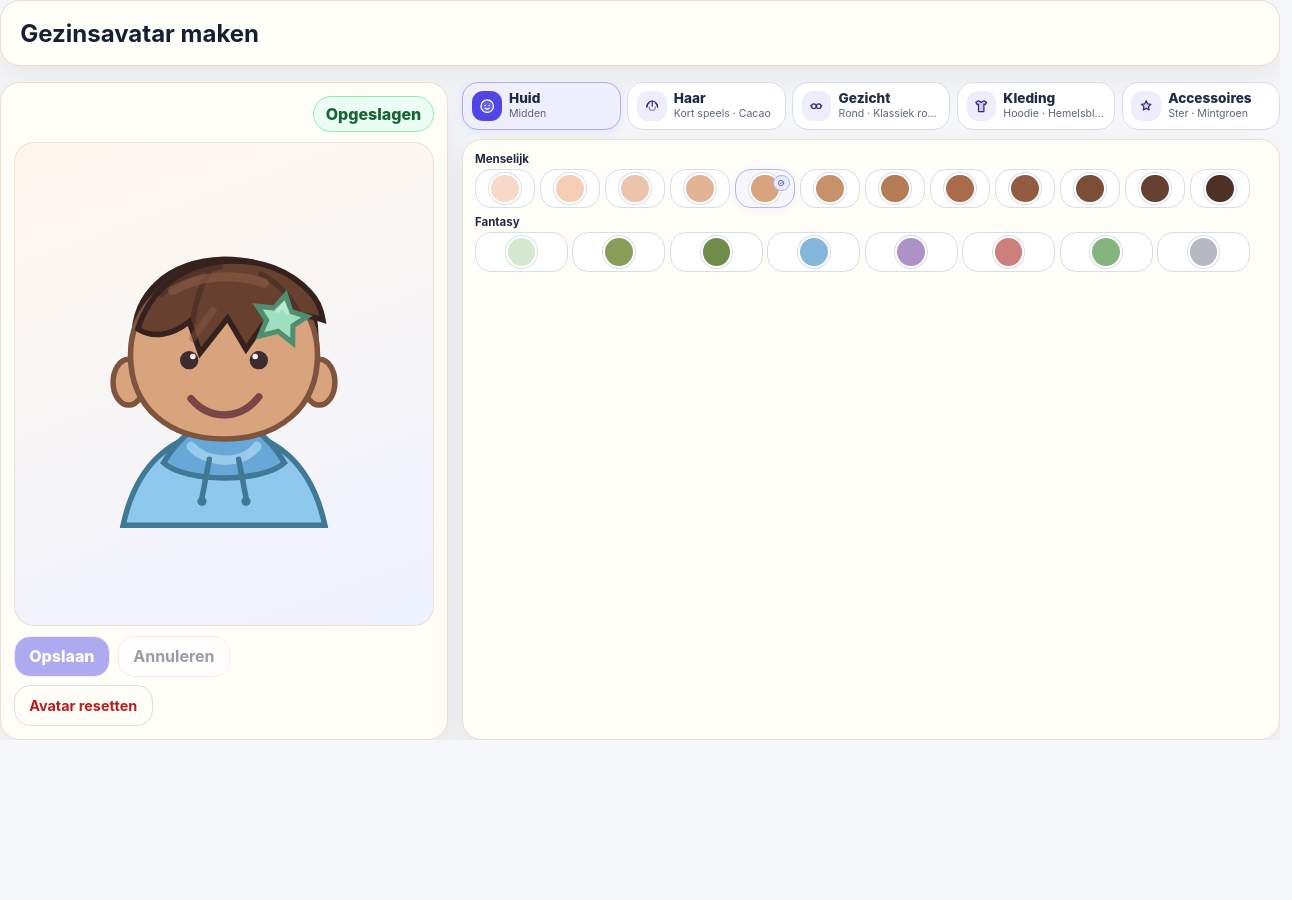
AvatarEditorPage › updates the live preview immediately when choices change
What coordinates should you click on to do the following:
click the button "Haar Kort speels · Cacao"
I would click on:
 (706, 106)
Its box is [627,82,786,130].
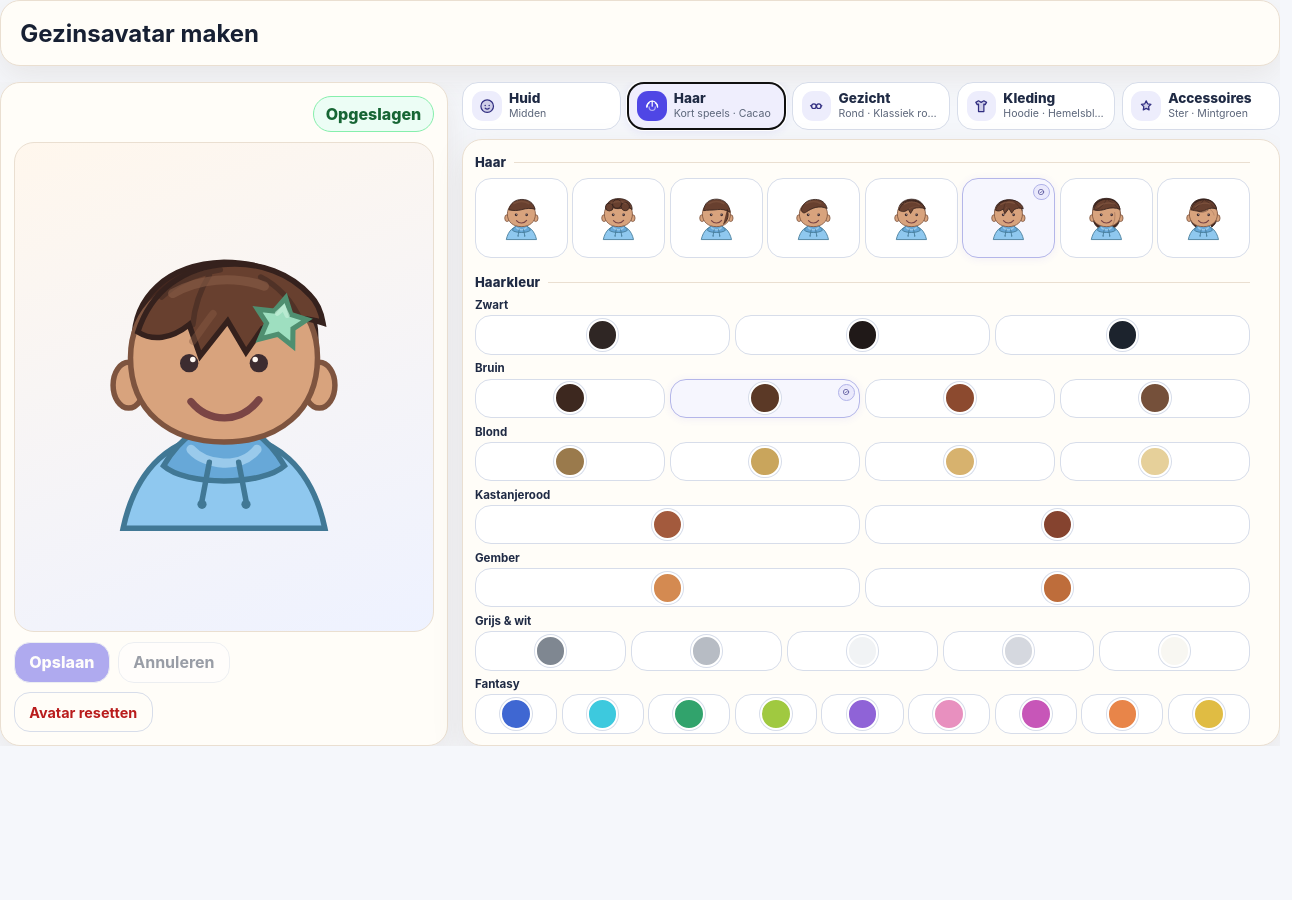
What coordinates should you click on to do the following:
click the button named "Lang zacht"
I would click on:
 (1106, 218)
Its box is [1060,178,1153,258].
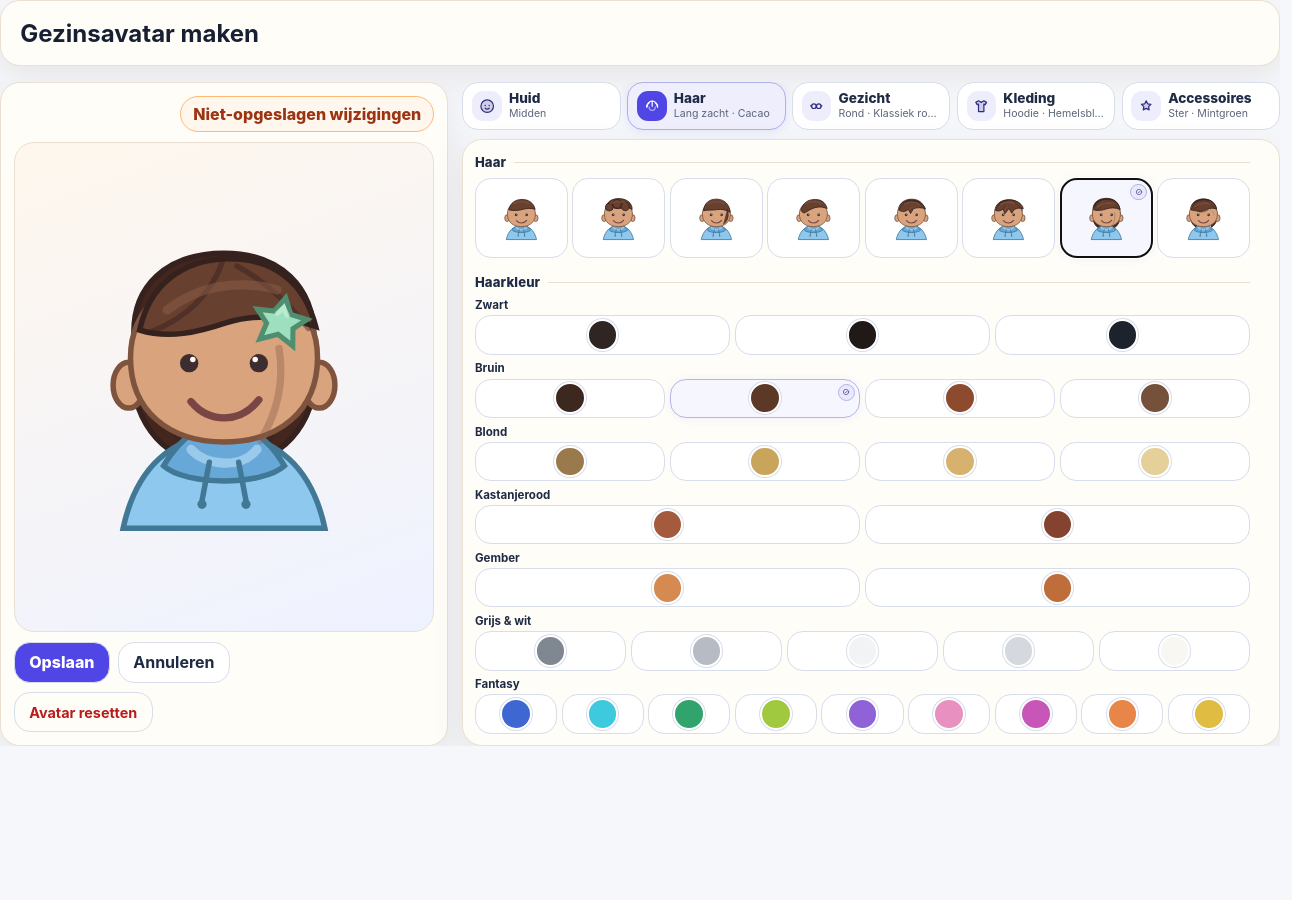
Now the text "Niet-opgeslagen wijzigingen" is shown, box [180,96,434,132]
